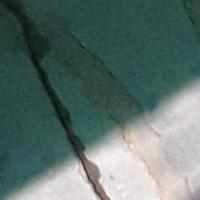crack: (1, 1, 122, 199)
